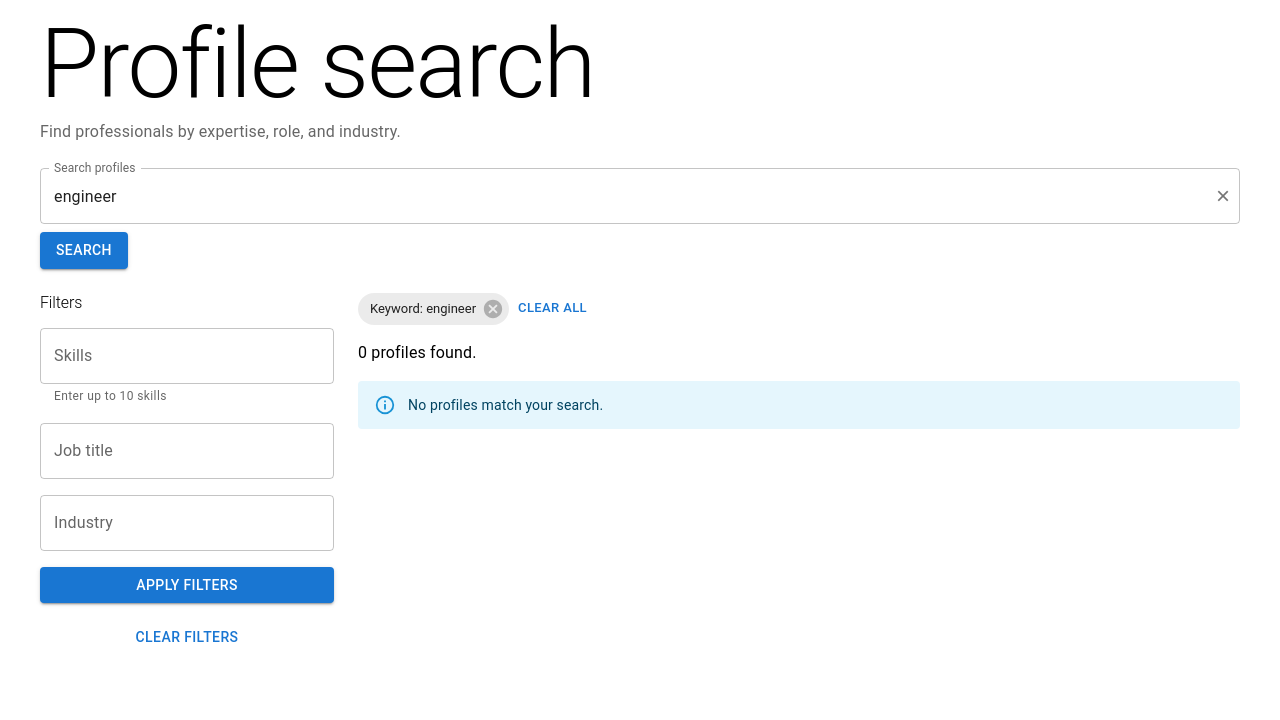
Test: ProfileSearchPage › clears an applied keyword from the input
Click the button named "Clear search".
click(1223, 196)  # box [1208, 174, 1238, 218]
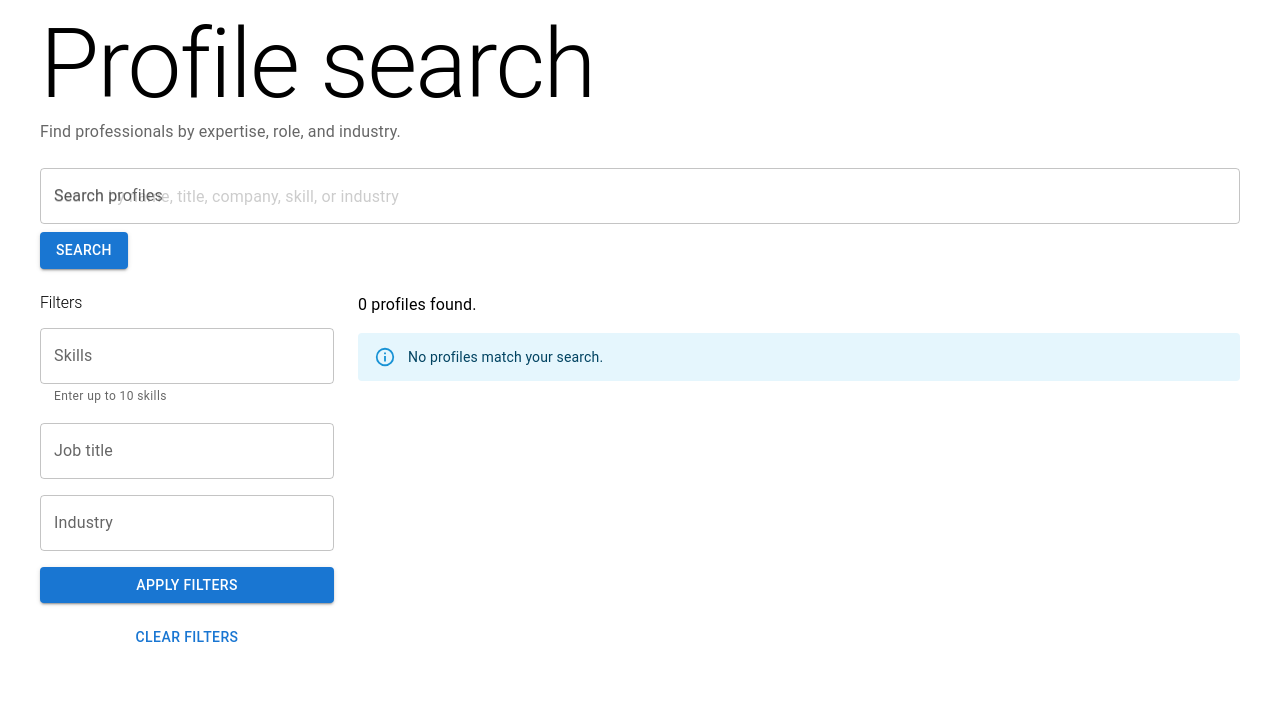
Expected: the field labelled "Search profiles" is empty, [40, 168, 1240, 224]
